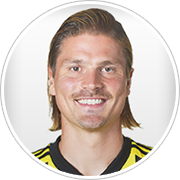smile: (74, 94, 108, 110)
